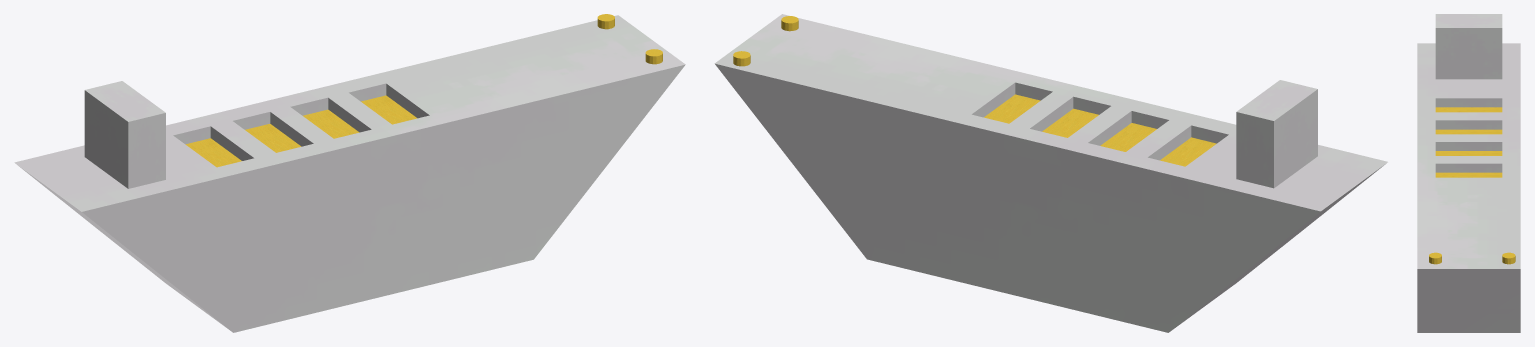
The model's file is D-12-Standard-Riffle-Mag.fbx.
3 views of the same model, side by side, from view 1: azimuth 30°, elevation 25°; view 2: azimuth 150°, elevation 25°; view 3: azimuth 270°, elevation 25° (orthographic). The views are drawn at different scales.
Parts seen in each view (by area): view 1: node_id7 (×2); view 2: node_id7 (×2); view 3: node_id7 (×2).
Part boxes in pixels (left/top/right/bottom): node_id7 (×2): left=14, top=14, right=685, bottom=332; node_id7 (×2): left=714, top=14, right=1387, bottom=332; node_id7 (×2): left=1417, top=14, right=1520, bottom=332.
Bounding box in the file's own units: 0.512 × 0.1823 × 0.0991.
Materials: 2 (2 with a texture image).
